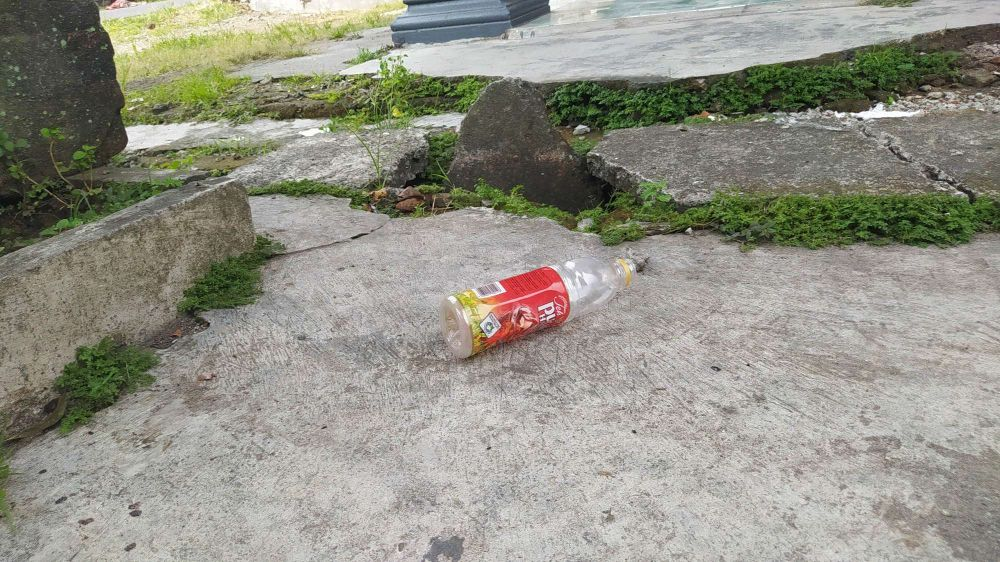botol: (404, 254, 653, 343)
